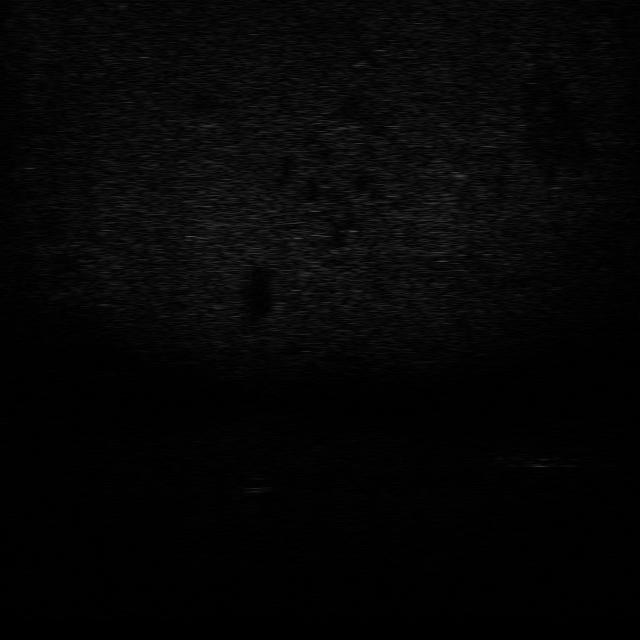ball: (235, 474, 279, 496)
human body: (504, 445, 605, 470)
